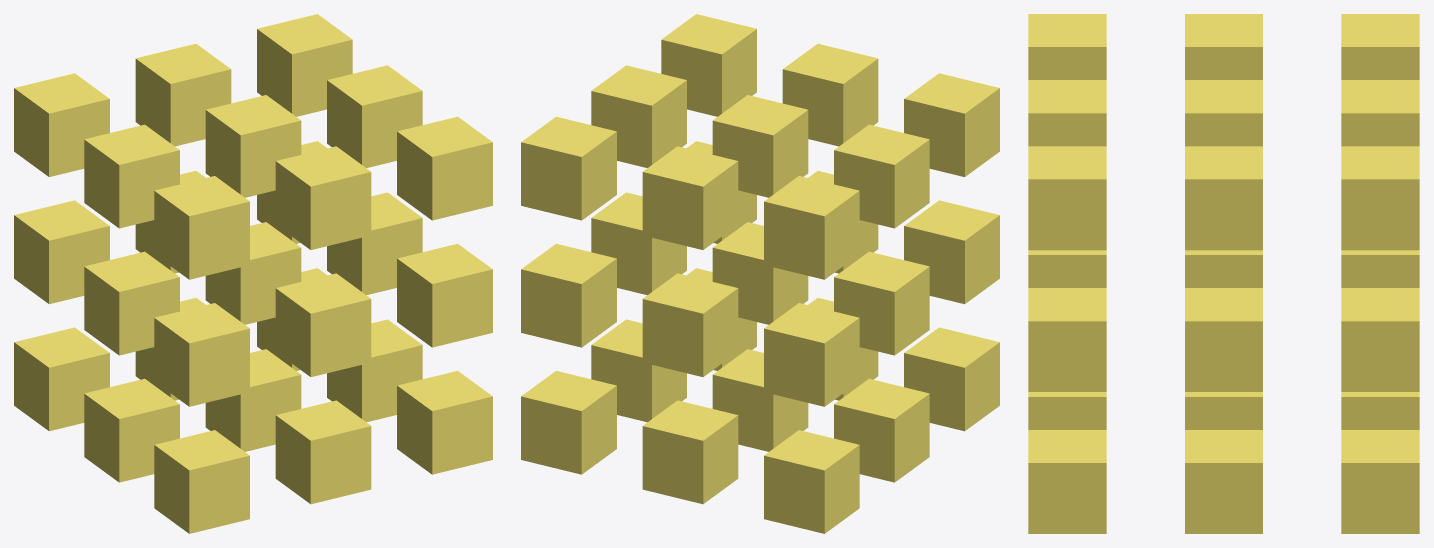
File: lattice.glb
The picture shows the model from 3 angles, left to right: view 1: azimuth 30°, elevation 25°; view 2: azimuth 150°, elevation 25°; view 3: azimuth 270°, elevation 25°; orthographic projection. The views are drawn at different scales.
Size of the model in its own units: 20 by 20 by 20.
